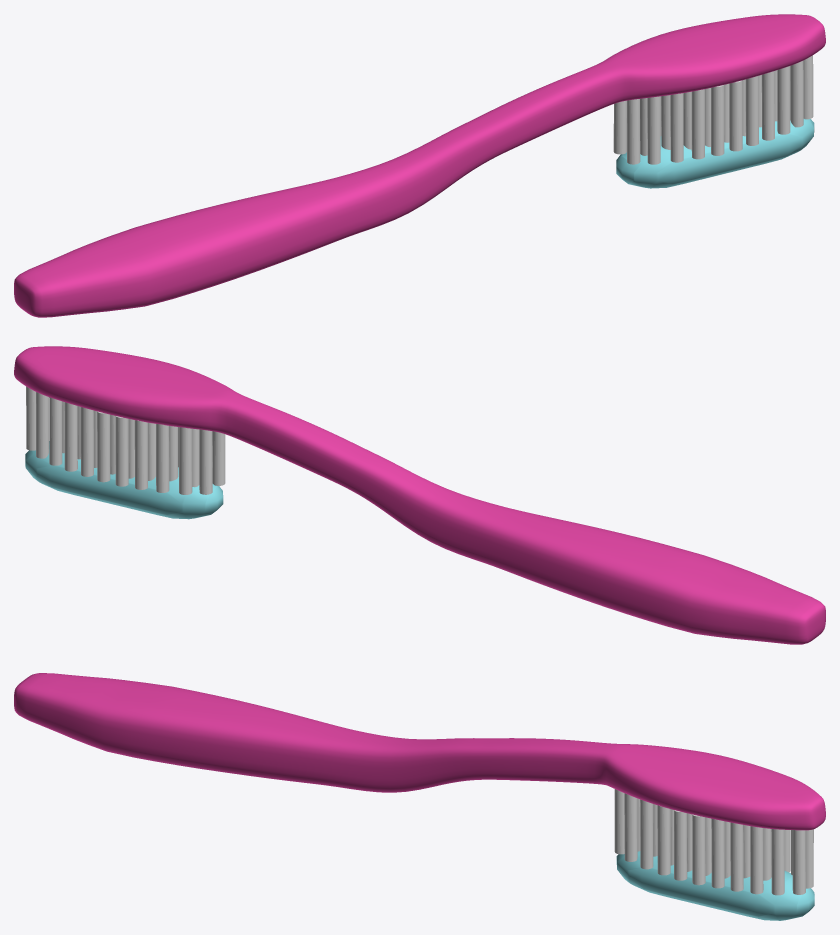
The model's file is sikatgigi.glb.
3 views of the same model, one above another, from view 1: azimuth 30°, elevation 25°; view 2: azimuth 150°, elevation 25°; view 3: azimuth 330°, elevation 25° (orthographic).
Visible parts, largest first — view 1: Cube, Cylinder.002, Mball.001, Cylinder.001; view 2: Cube, Cylinder.001, Mball.001, Cylinder.002; view 3: Cube, Cylinder.002, Mball.001, Cylinder.001.
Part boxes in pixels (x1,y1,x2,y2): Cube: (14, 14, 825, 317); Cylinder.002: (627, 55, 813, 164); Mball.001: (616, 119, 814, 188); Cylinder.001: (613, 96, 661, 154); Cube: (14, 346, 825, 644); Cylinder.001: (26, 386, 212, 494); Mball.001: (25, 441, 223, 519); Cylinder.002: (178, 427, 225, 485); Cube: (14, 673, 825, 830); Cylinder.002: (614, 789, 805, 895); Mball.001: (616, 851, 814, 920); Cylinder.001: (784, 829, 813, 888).
Size of the model in its own units: 5.97 by 0.9376 by 0.6678.
